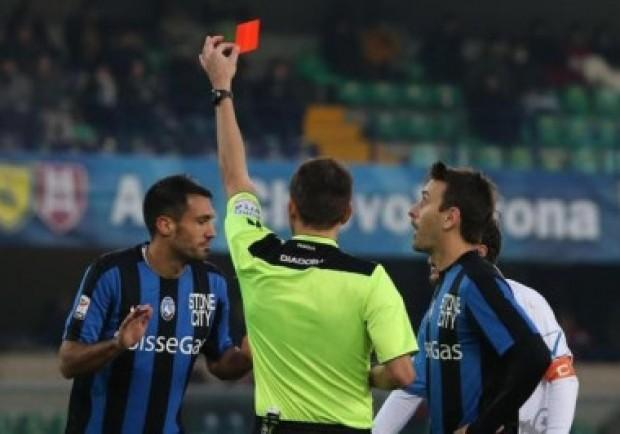red_card: (195, 13, 266, 94)
